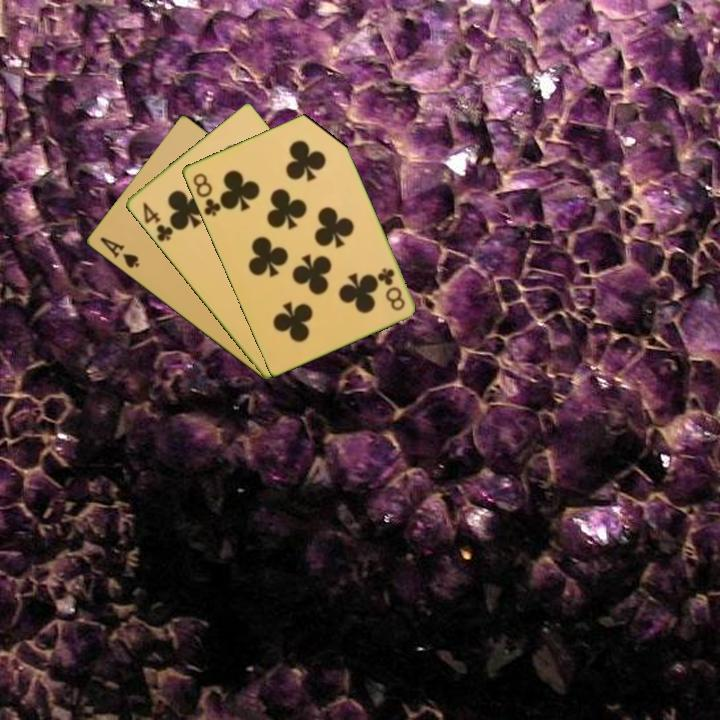4c: (138, 199, 176, 245)
8c: (189, 169, 223, 219), (374, 264, 408, 314)
As: (96, 233, 142, 271)
